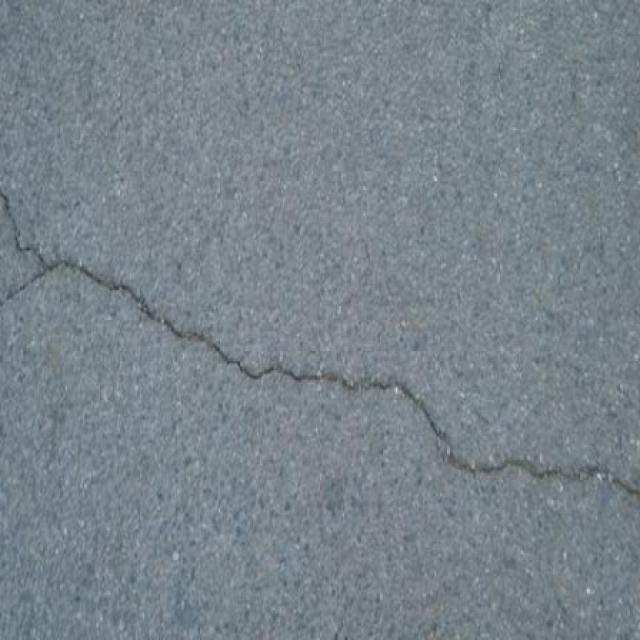Diagonal Crack: (0, 182, 640, 497)
